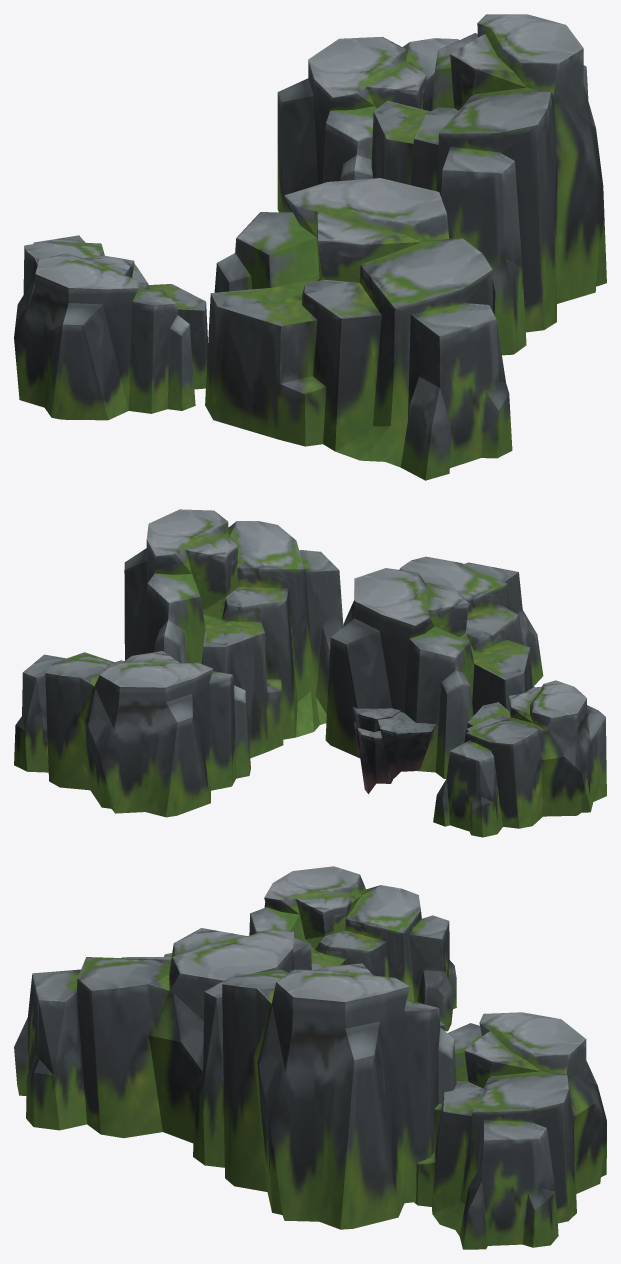
The model's file is Area04_3_y.FBX.
3 renders of one model, top to bottom at view 1: azimuth 30°, elevation 25°; view 2: azimuth 150°, elevation 25°; view 3: azimuth 270°, elevation 25°, orthographic. The views are drawn at different scales.
Parts seen in each view (by area): view 1: Area04_3_y; view 2: Area04_3_y; view 3: Area04_3_y.
Part boxes in pixels (x1,y1,x2,y2): Area04_3_y: [14, 14, 606, 480]; Area04_3_y: [14, 509, 606, 837]; Area04_3_y: [14, 866, 606, 1249].
Size of the model in its own units: 8082 by 3533 by 7270.
1 material, 1 textured.
